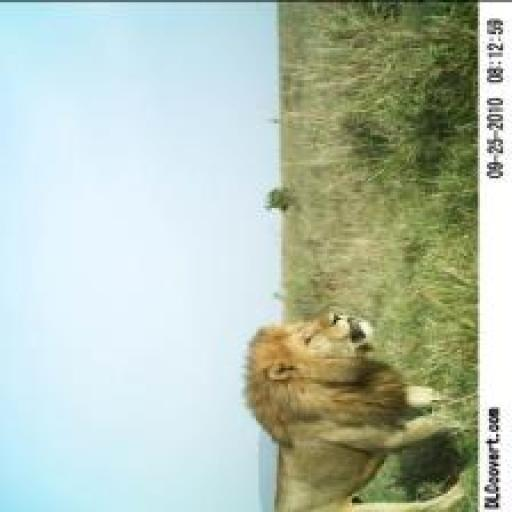lion: (219, 308, 478, 510)
